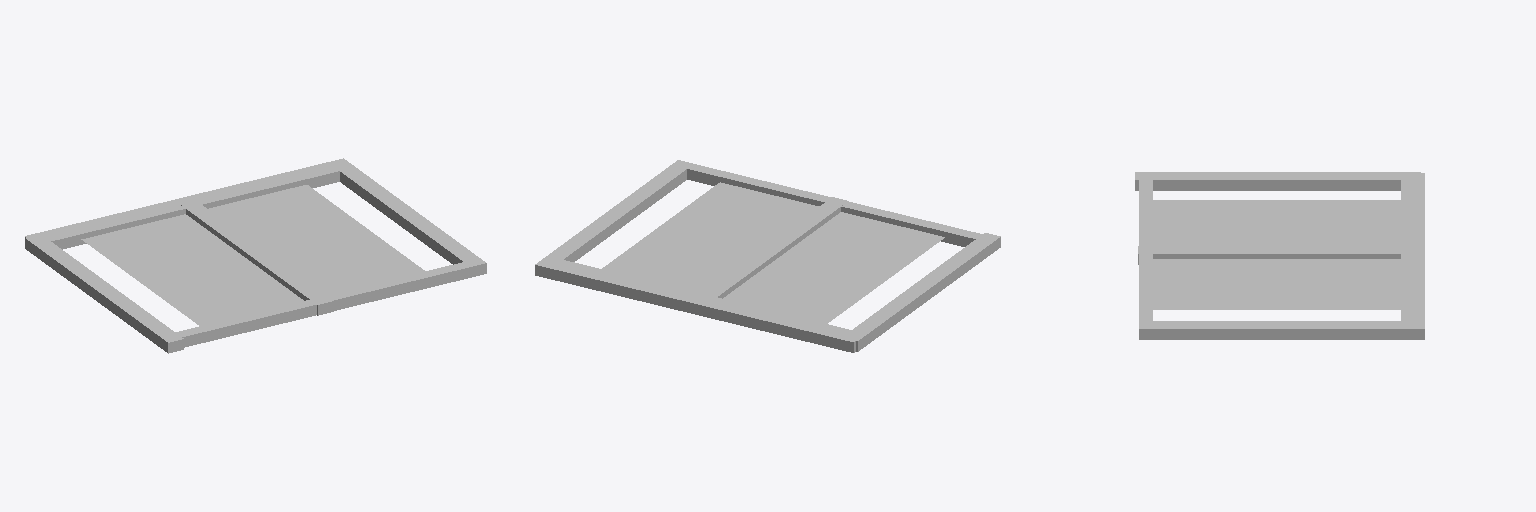
The model's file is window.obj.
3 renders of one model, left to right at view 1: azimuth 30°, elevation 25°; view 2: azimuth 150°, elevation 25°; view 3: azimuth 270°, elevation 25°, orthographic.
Size of the model in its own units: 5.18 by 0.1666 by 4.07.